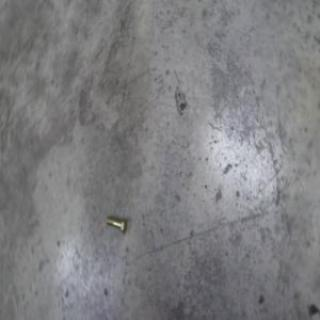Bolttrack_idkeyframe: (106, 206, 128, 230)
